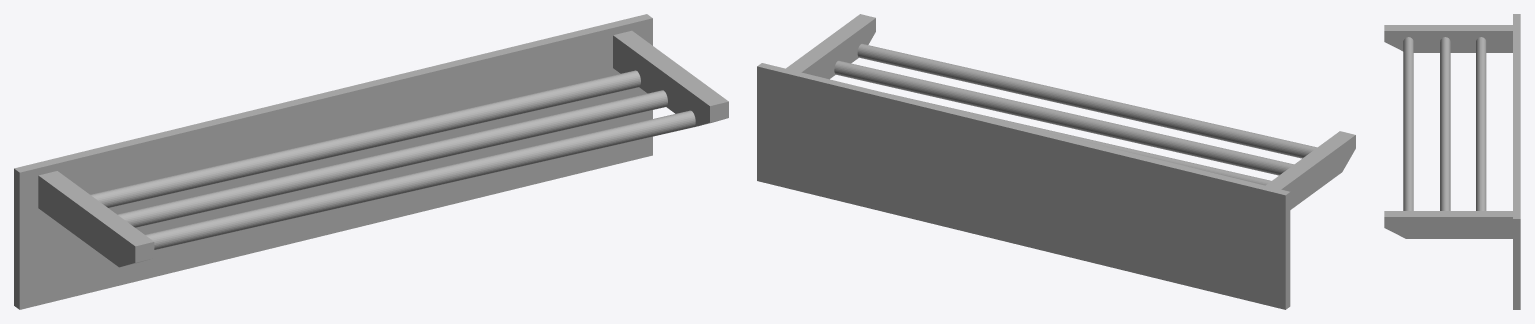
Rendered from gantungan handuk.fbx.
3 views of the same model, side by side, from view 1: azimuth 30°, elevation 25°; view 2: azimuth 150°, elevation 25°; view 3: azimuth 270°, elevation 25° (orthographic). The views are drawn at different scales.
Visible parts, largest first — view 1: Cube, Cylinder.002, Cylinder, Cylinder.001, Cube.001, Cube.002; view 2: Cube, Cylinder.002, Cylinder.001, Cube.001, Cube.002, Cylinder; view 3: Cube.002, Cube.001, Cube, Cylinder, Cylinder.001, Cylinder.002.
Part boxes in pixels (left/top/right/bottom): Cube: left=14, top=14, right=652, bottom=309; Cylinder.002: left=145, top=110, right=701, bottom=249; Cylinder: left=90, top=70, right=640, bottom=207; Cylinder.001: left=117, top=90, right=667, bottom=227; Cube.001: left=38, top=171, right=154, bottom=267; Cube.002: left=613, top=30, right=728, bottom=126; Cube: left=757, top=63, right=1290, bottom=309; Cylinder.002: left=857, top=43, right=1317, bottom=158; Cylinder.001: left=834, top=60, right=1293, bottom=175; Cube.001: left=1266, top=131, right=1355, bottom=209; Cube.002: left=786, top=14, right=875, bottom=79; Cylinder: left=886, top=93, right=1271, bottom=185; Cube.002: left=1384, top=211, right=1512, bottom=238; Cube.001: left=1384, top=25, right=1512, bottom=52; Cube: left=1513, top=14, right=1520, bottom=309; Cylinder: left=1476, top=37, right=1486, bottom=210; Cylinder.001: left=1440, top=37, right=1450, bottom=210; Cylinder.002: left=1403, top=37, right=1413, bottom=210.
Size of the model in its own units: 1029 by 213 by 289.
Materials: 6 (6 with a texture image).
